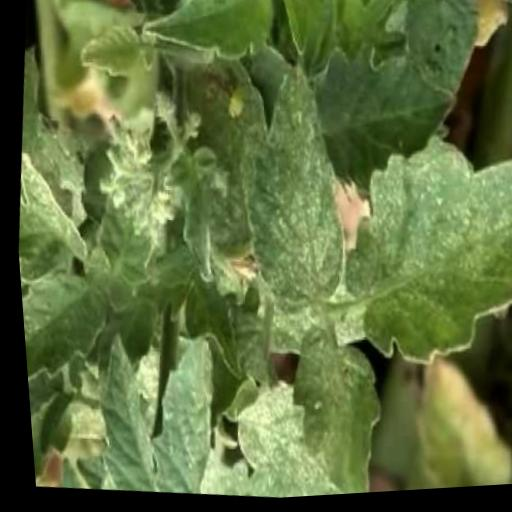Spider Mites: (321, 129, 512, 386), (215, 51, 364, 327), (267, 314, 391, 500)
